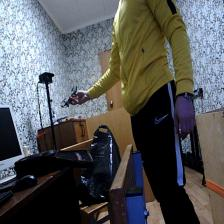drone: (58, 83, 81, 111)
